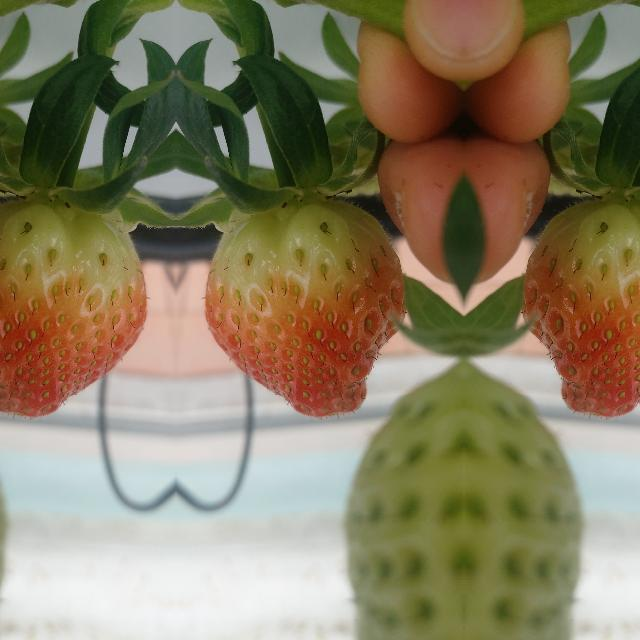Health_75: (203, 200, 404, 416), (0, 199, 146, 416), (521, 199, 640, 416)
